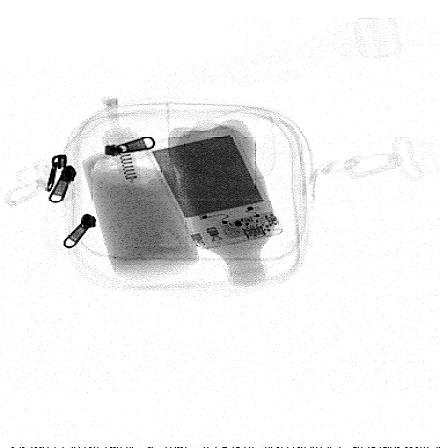Powerbank: (145, 126, 284, 251)
